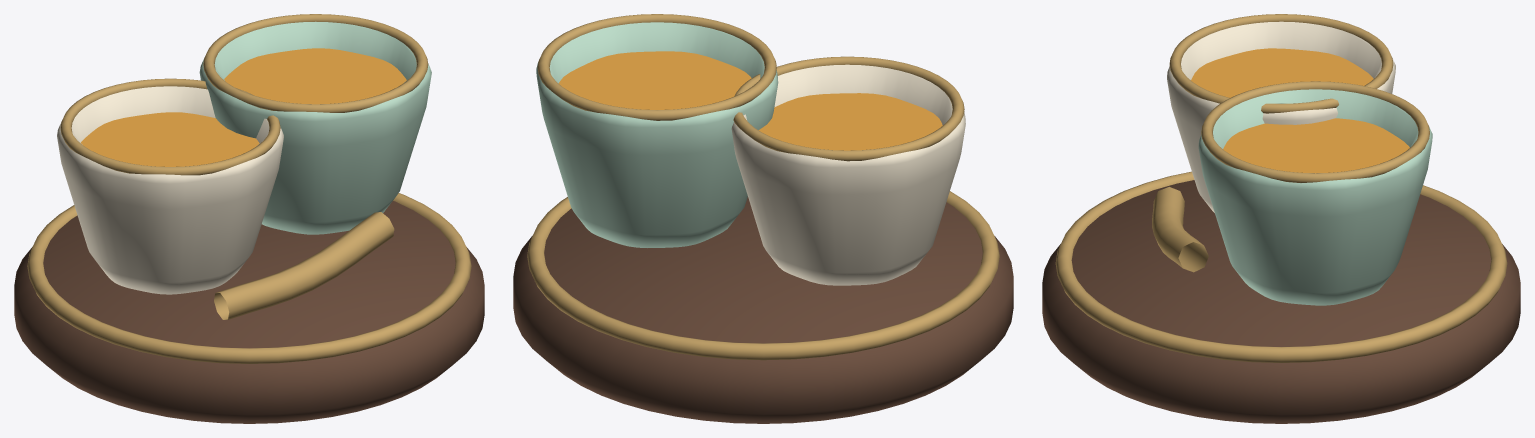
The model's file is teacup.glb.
3 renders of one model, left to right at view 1: azimuth 30°, elevation 25°; view 2: azimuth 150°, elevation 25°; view 3: azimuth 270°, elevation 25°, orthographic. The views are drawn at different scales.
Visible parts, largest first — view 1: teacup_Walnut carved edge, teacup_Porcelain warm ivory, teacup_Brushed champagne brass, teacup_Celadon milk glaze, teacup_Warm ember enamel; view 2: teacup_Walnut carved edge, teacup_Celadon milk glaze, teacup_Porcelain warm ivory, teacup_Brushed champagne brass, teacup_Warm ember enamel; view 3: teacup_Walnut carved edge, teacup_Celadon milk glaze, teacup_Brushed champagne brass, teacup_Warm ember enamel, teacup_Porcelain warm ivory.
Part boxes in pixels (x1,y1,x2,y2): teacup_Walnut carved edge: (14,201,484,423); teacup_Porcelain warm ivory: (57,86,283,294); teacup_Brushed champagne brass: (27,14,471,363); teacup_Celadon milk glaze: (199,21,431,234); teacup_Warm ember enamel: (81,48,406,166); teacup_Walnut carved edge: (513,197,1013,423); teacup_Celadon milk glaze: (536,22,778,247); teacup_Porcelain warm ivory: (731,64,965,285); teacup_Brushed champagne brass: (527,14,999,360); teacup_Warm ember enamel: (559,51,942,150); teacup_Walnut carved edge: (1042,180,1520,423); teacup_Celadon milk glaze: (1198,89,1432,305); teacup_Brushed champagne brass: (1055,14,1507,362); teacup_Warm ember enamel: (1191,48,1409,173); teacup_Porcelain warm ivory: (1167,21,1395,212).
Bounding box in the file's own units: 0.98 × 0.554 × 0.98.
